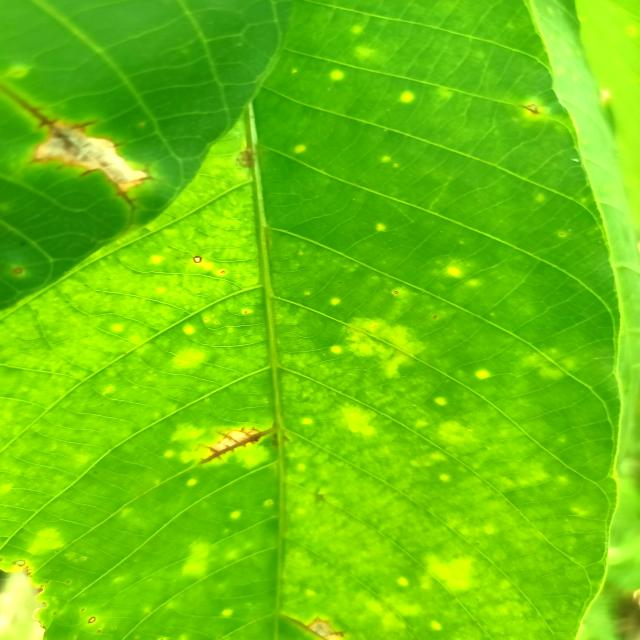Colletotrichum: (193, 256, 202, 264), (88, 616, 96, 624), (221, 270, 225, 274), (394, 291, 399, 294), (244, 310, 248, 313)
Corynespora: (198, 428, 270, 466), (0, 89, 58, 130)
Leaf-Blight: (37, 123, 151, 192), (309, 617, 343, 640)
